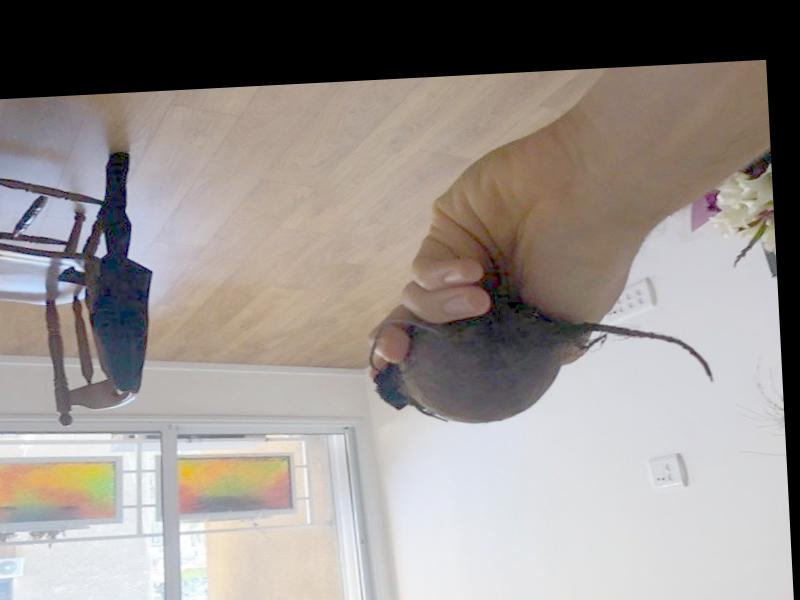Beet: (364, 298, 712, 427)
